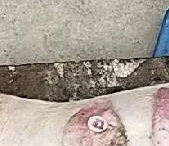text: (80, 109, 117, 141)
